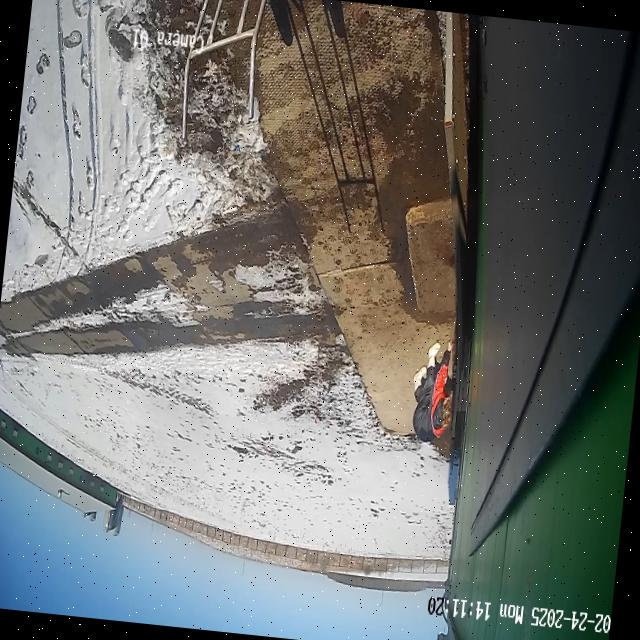Red uniform: (405, 334, 460, 446)
